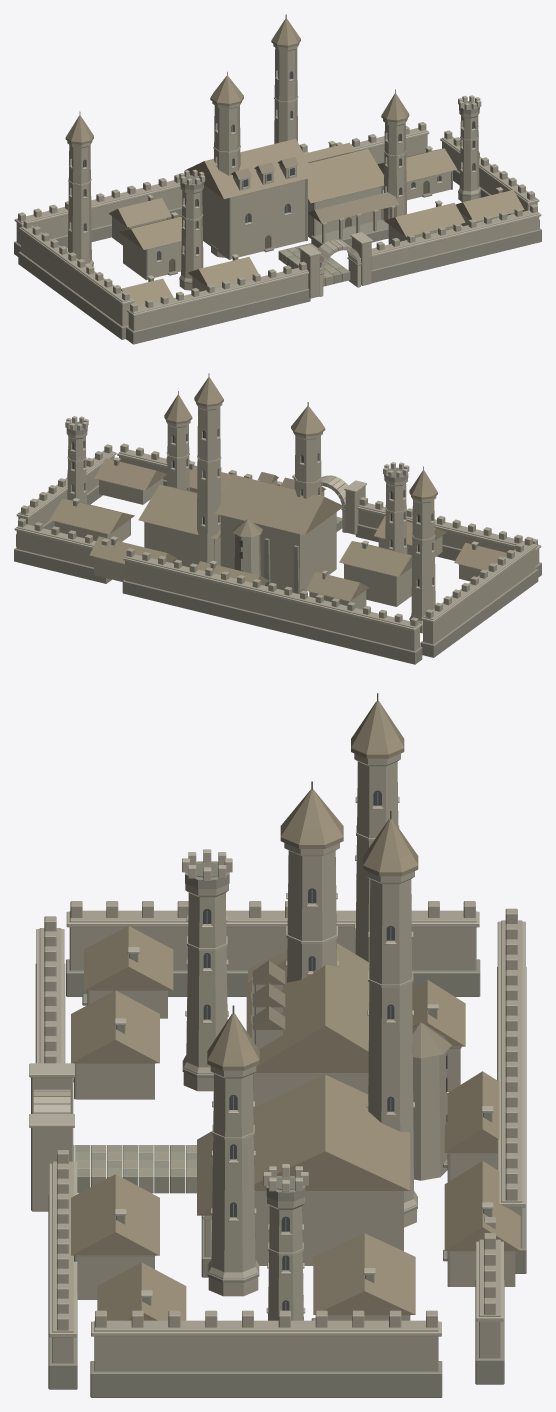
Rendered from castle.glb.
3 views of the same model, one above another, from view 1: azimuth 30°, elevation 25°; view 2: azimuth 150°, elevation 25°; view 3: azimuth 270°, elevation 25° (orthographic). The views are drawn at different scales.
Visible parts, largest first — view 1: Main keep, Curtain 4 stone wall, Keep pitched roof, Curtain 0 stone wall, Curtain 5 stone wall, East hall roof, West watchtower carved shaft, Curtain 4 embedded foundation, Curtain 2 stone wall, Curtain 5 embedded foundation, High tower carved shaft, Gate tower carved shaft (+29 smaller); view 2: Curtain 2 stone wall, Main keep, Keep pitched roof, Curtain 2 embedded foundation, High tower carved shaft, Curtain 0 stone wall, West watchtower carved shaft, East hall roof, Curtain 3 stone wall, Courtyard house 00, Curtain 4 stone wall, Curtain 0 embedded foundation (+30 smaller); view 3: Curtain 1 stone wall, East hall roof, High tower carved shaft, Curtain 0 stone wall, Keep pitched roof, Curtain 1 embedded foundation, East tower carved shaft, Courtyard roof 04, Gate tower carved shaft, East hall, Courtyard roof 03, Keep spire carved shaft (+34 smaller).
Boxes of the visible parts, box(x1,y1,x2,y2) form: Main keep: box(202, 179, 305, 259); Curtain 4 stone wall: box(128, 267, 308, 330); Keep pitched roof: box(185, 138, 315, 198); Curtain 0 stone wall: box(21, 225, 132, 326); Curtain 5 stone wall: box(371, 210, 539, 269); East hall roof: box(308, 149, 383, 203); West watchtower carved shaft: box(67, 141, 93, 266); Curtain 4 embedded foundation: box(126, 288, 310, 344); Curtain 2 stone wall: box(16, 151, 308, 244); Curtain 5 embedded foundation: box(371, 228, 541, 283); High tower carved shaft: box(273, 44, 299, 143); Gate tower carved shaft: box(179, 185, 203, 290); Curtain 2 stone wall: box(125, 554, 419, 651); Main keep: box(220, 512, 336, 592); Keep pitched roof: box(214, 474, 343, 535); Curtain 2 embedded foundation: box(122, 579, 422, 664); High tower carved shaft: box(196, 403, 222, 565); Curtain 0 stone wall: box(423, 542, 535, 644); West watchtower carved shaft: box(410, 496, 436, 633); East hall roof: box(138, 484, 220, 539); Curtain 3 stone wall: box(16, 524, 95, 567); Courtyard house 00: box(344, 564, 411, 606); Curtain 4 stone wall: box(358, 503, 539, 565); Curtain 0 embedded foundation: box(420, 569, 538, 657); Curtain 1 stone wall: box(94, 1320, 438, 1371); East hall roof: box(253, 1074, 410, 1190); High tower carved shaft: box(366, 871, 416, 1227); Curtain 0 stone wall: box(69, 910, 476, 970); Keep pitched roof: box(246, 943, 369, 1072); Curtain 1 embedded foundation: box(90, 1361, 442, 1397); East tower carved shaft: box(208, 1066, 258, 1296); Courtyard roof 04: box(313, 1233, 415, 1314); Gate tower carved shaft: box(183, 884, 228, 1091); East hall: box(254, 1191, 403, 1265); Courtyard roof 03: box(71, 1174, 159, 1255); Keep spire carved shaft: box(284, 843, 339, 982).
Size of the model in its own units: 58.35 by 27.1 by 29.58.
